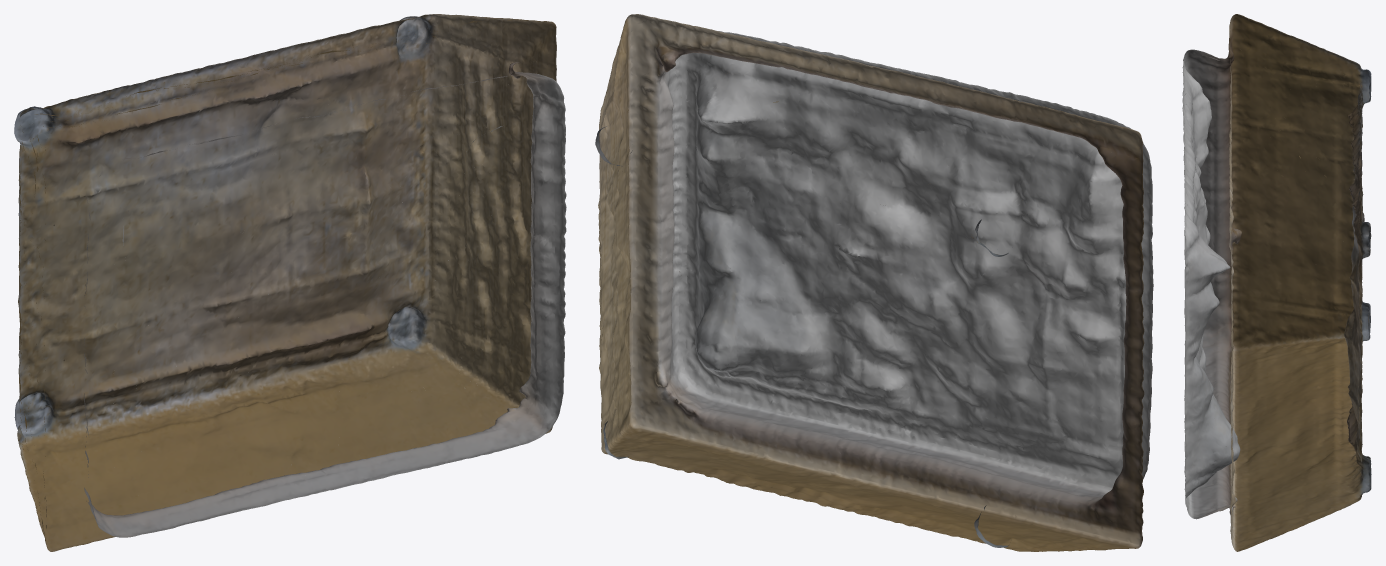
File: soap.glb
The picture shows the model from 3 angles, left to right: view 1: azimuth 30°, elevation 25°; view 2: azimuth 150°, elevation 25°; view 3: azimuth 270°, elevation 25°; orthographic projection. The views are drawn at different scales.
Size of the model in its own units: 1 by 0.7823 by 0.3917.
